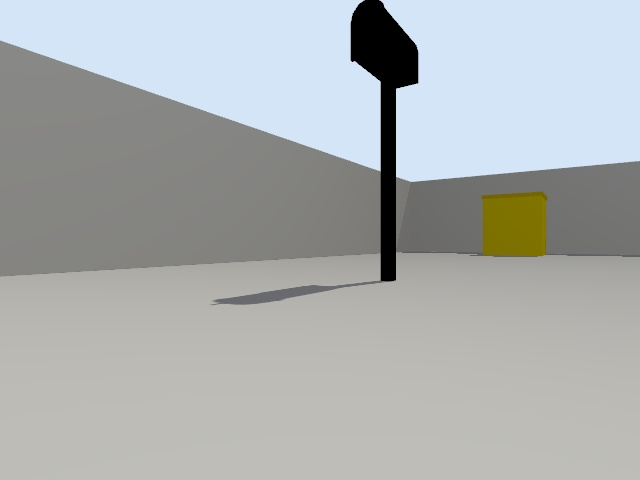boite_lettres: (350, 0, 418, 281)
